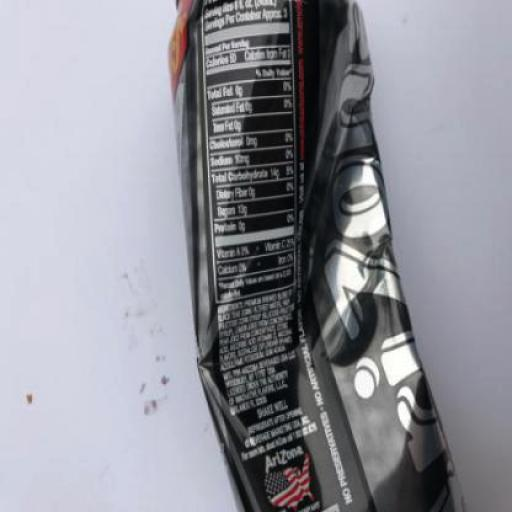metal: (168, 0, 466, 511)
